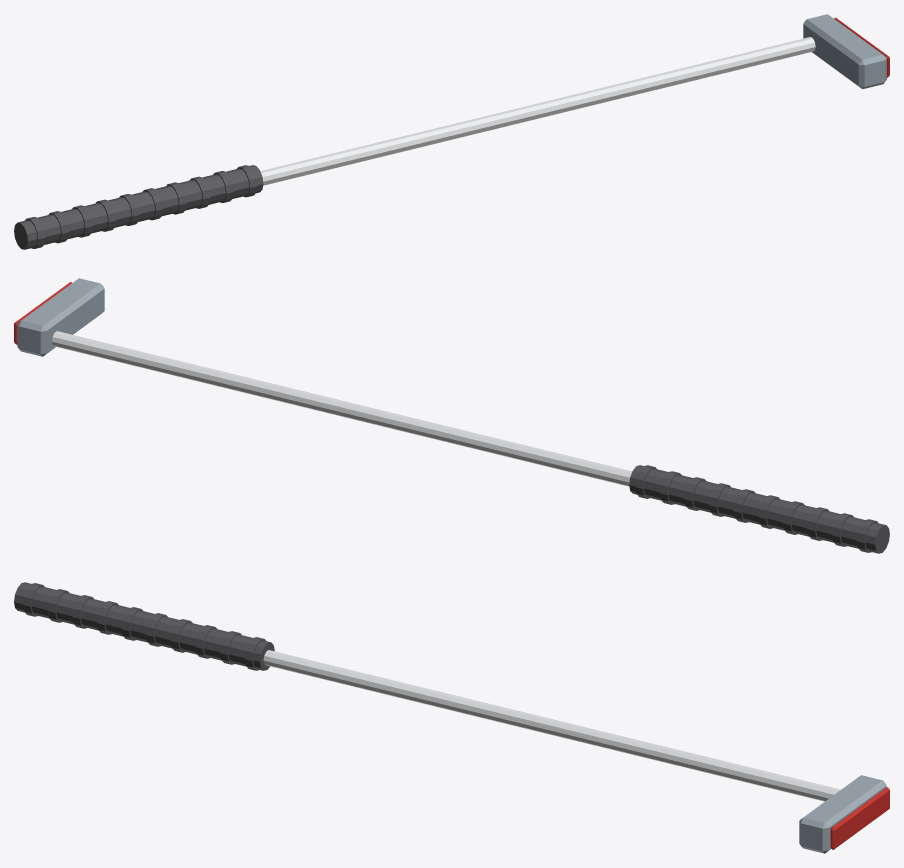
File: taco_golfe.glb
3 views of the same model, one above another, from view 1: azimuth 30°, elevation 25°; view 2: azimuth 150°, elevation 25°; view 3: azimuth 330°, elevation 25° (orthographic). The views are drawn at different scales.
Visible parts, largest first — view 1: taco_golfe_aco_polido, taco_golfe_borracha, taco_golfe_aco_pintado; view 2: taco_golfe_aco_polido, taco_golfe_borracha, taco_golfe_aco_pintado; view 3: taco_golfe_aco_polido, taco_golfe_borracha, taco_golfe_aco_pintado, taco_golfe_vermelho_flag.
Part boxes in pixels (<box>): taco_golfe_aco_polido: <box>260,37,815,185</box>; taco_golfe_borracha: <box>14,165,263,249</box>; taco_golfe_aco_pintado: <box>803,14,886,89</box>; taco_golfe_aco_polido: <box>52,331,632,486</box>; taco_golfe_borracha: <box>629,465,889,553</box>; taco_golfe_aco_pintado: <box>17,278,104,356</box>; taco_golfe_aco_polido: <box>263,650,840,801</box>; taco_golfe_borracha: <box>14,582,274,670</box>; taco_golfe_aco_pintado: <box>799,775,886,853</box>; taco_golfe_vermelho_flag: <box>830,787,889,849</box>.
Bounding box in the file's own units: 0.875 × 0.0315 × 0.11.
